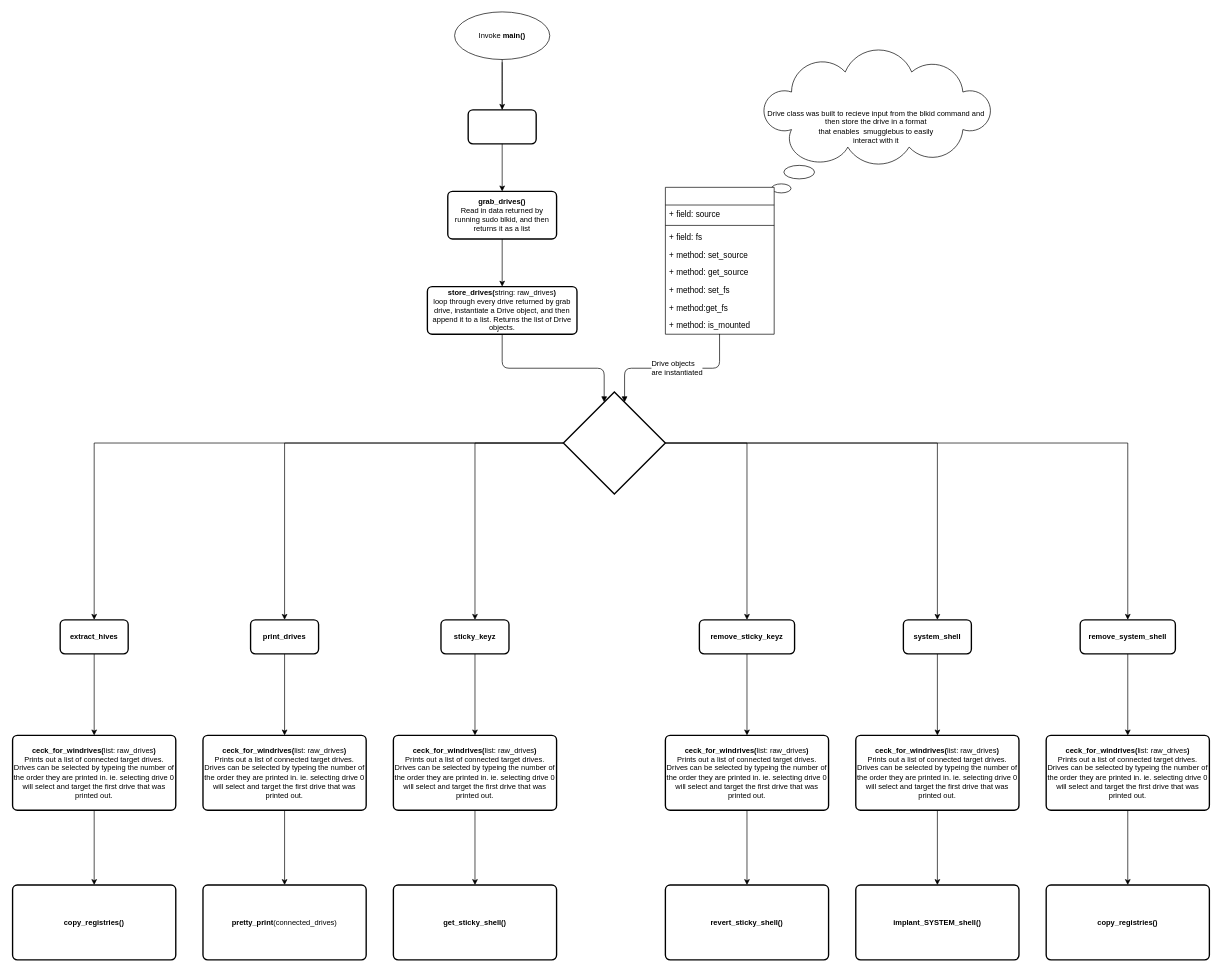
This 1221x972 diagram has some shape labels left out. Each missing label, with the box of its shape:
Drive: (665, 187, 774, 334)
Execute in certain mode based off of flag that user provided as a sys arg: (562, 391, 666, 494)
Read and parse args user has provided: (467, 109, 537, 144)
